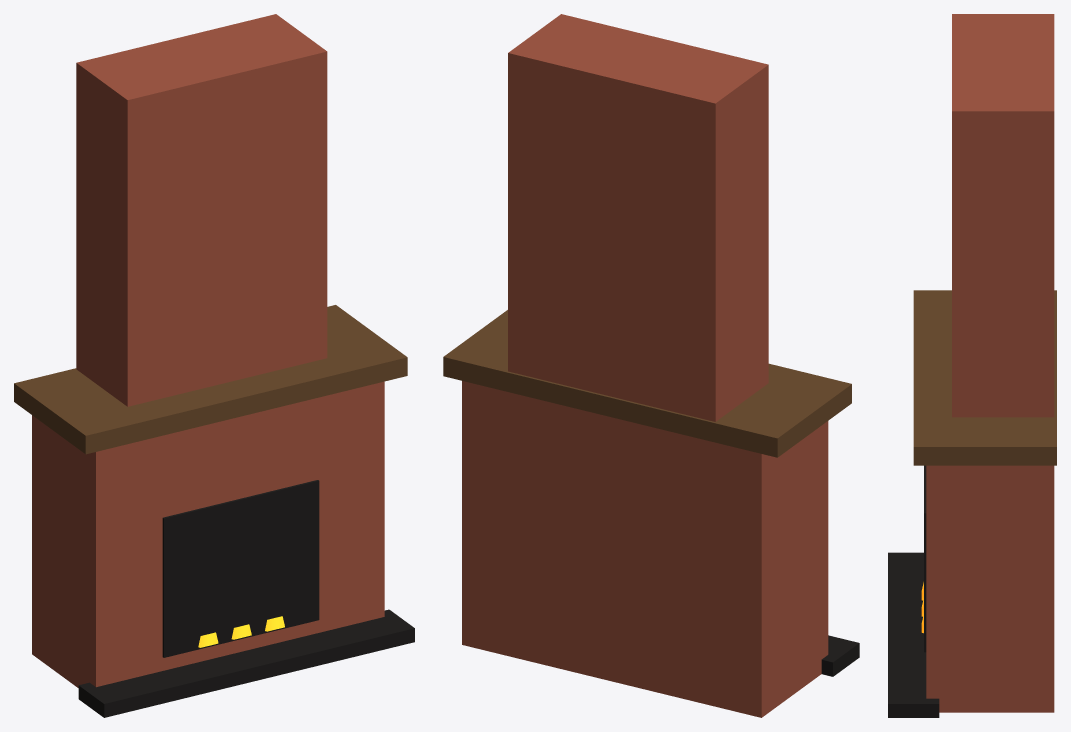
The model's file is fireplace.glb.
3 renders of one model, left to right at view 1: azimuth 30°, elevation 25°; view 2: azimuth 150°, elevation 25°; view 3: azimuth 270°, elevation 25°, orthographic. The views are drawn at different scales.
Visible parts, largest first — view 1: fireplace; view 2: fireplace; view 3: fireplace.
Boxes of the visible parts, left/top/right/bottom form: fireplace: left=14, top=14, right=414, bottom=717; fireplace: left=443, top=14, right=859, bottom=717; fireplace: left=888, top=14, right=1056, bottom=717.
Bounding box in the file's own units: 1.45 × 2.5 × 0.66.
